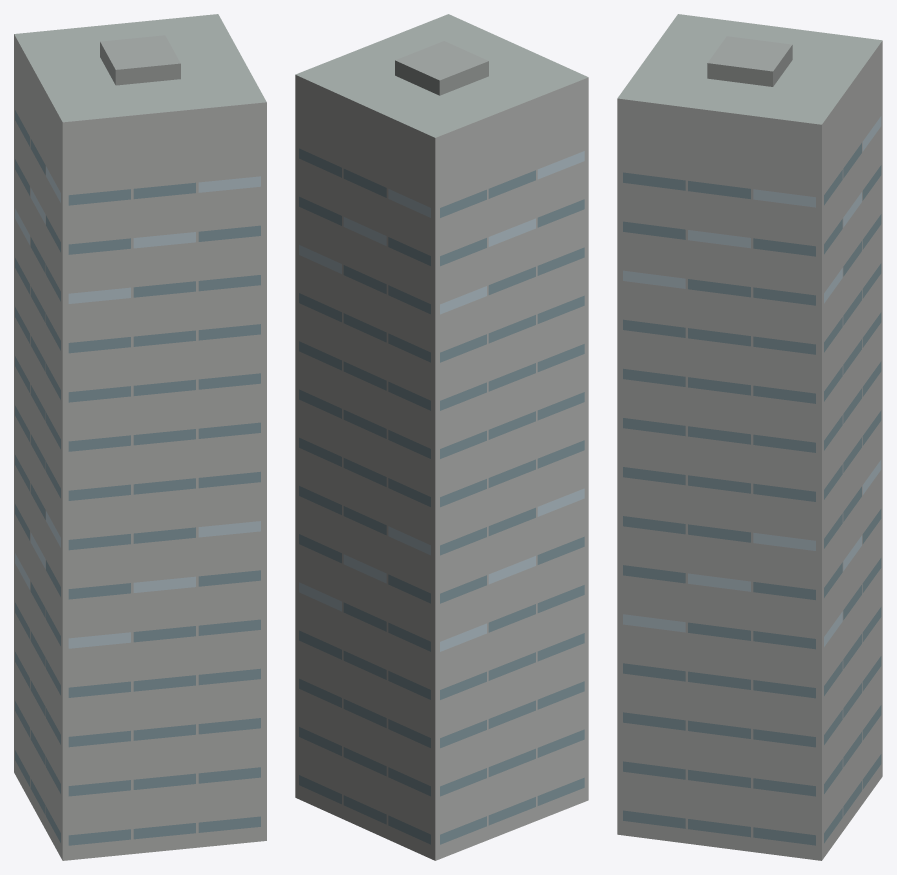
The model's file is fallback-olympic-park-foreon-104.glb.
3 views of the same model, side by side, from view 1: azimuth 30°, elevation 25°; view 2: azimuth 150°, elevation 25°; view 3: azimuth 270°, elevation 25° (orthographic). The views are drawn at different scales.
Visible parts, largest first — view 1: fallback-olympic-park-foreon-104; view 2: fallback-olympic-park-foreon-104; view 3: fallback-olympic-park-foreon-104.
Boxes of the visible parts, box(x1,y1,x2,y2) form: fallback-olympic-park-foreon-104: box(14, 14, 266, 860); fallback-olympic-park-foreon-104: box(295, 14, 588, 860); fallback-olympic-park-foreon-104: box(617, 14, 882, 860).
Size of the model in its own units: 36.67 by 116 by 37.12.
